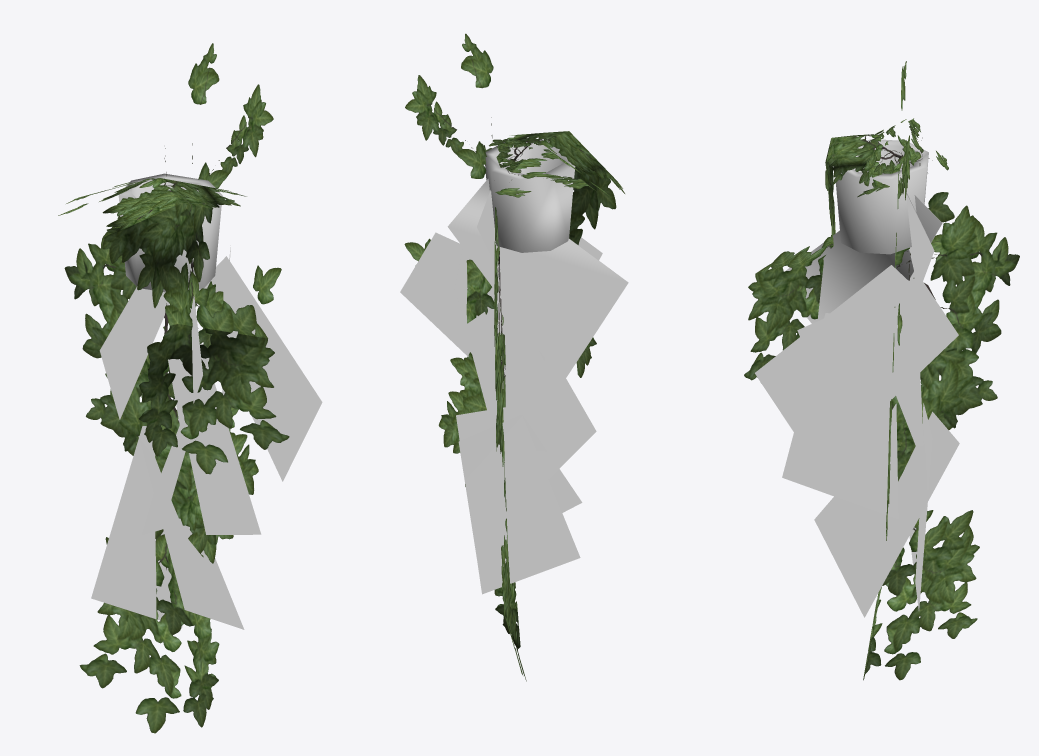
Rendered from Plant_Box_Hanging.FBX.
3 views of the same model, side by side, from view 1: azimuth 30°, elevation 25°; view 2: azimuth 150°, elevation 25°; view 3: azimuth 270°, elevation 25° (orthographic). The views are drawn at different scales.
Parts seen in each view (by area): view 1: Plant_Box_Hanging; view 2: Plant_Box_Hanging; view 3: Plant_Box_Hanging.
Part boxes in pixels (bbox=[...]): Plant_Box_Hanging: bbox=[58, 43, 322, 733]; Plant_Box_Hanging: bbox=[400, 33, 628, 681]; Plant_Box_Hanging: bbox=[744, 61, 1019, 680].
Size of the model in its own units: 71.88 by 168 by 74.96.
